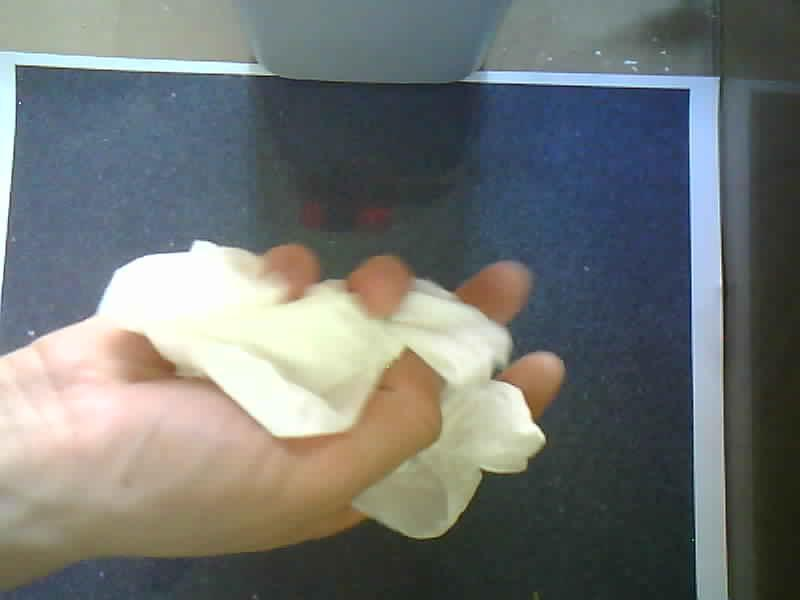paper: (98, 241, 545, 539)
